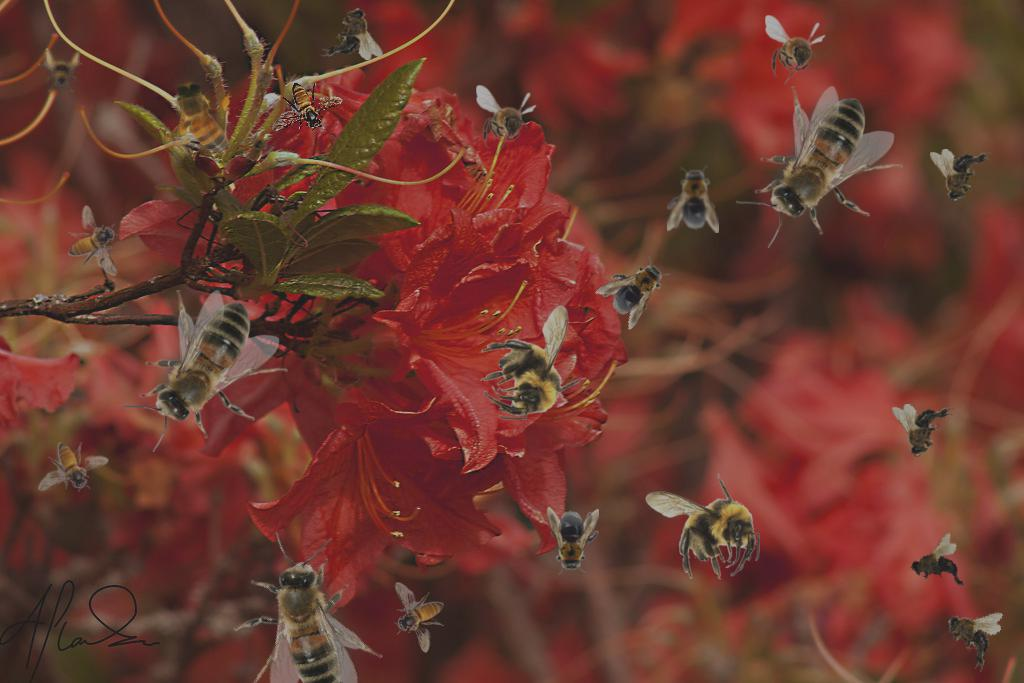Bee: (187, 507, 420, 683), (121, 290, 288, 452), (736, 86, 903, 248), (645, 473, 760, 580), (480, 305, 587, 420), (593, 245, 679, 331), (167, 73, 235, 166), (934, 596, 1007, 674), (902, 529, 971, 605), (476, 85, 537, 155), (765, 15, 826, 85), (68, 205, 118, 276), (394, 582, 444, 653), (38, 442, 109, 492), (272, 82, 343, 132), (547, 507, 599, 575), (667, 165, 719, 233), (930, 149, 992, 202), (892, 404, 954, 457), (321, 7, 383, 60), (38, 48, 82, 92)
